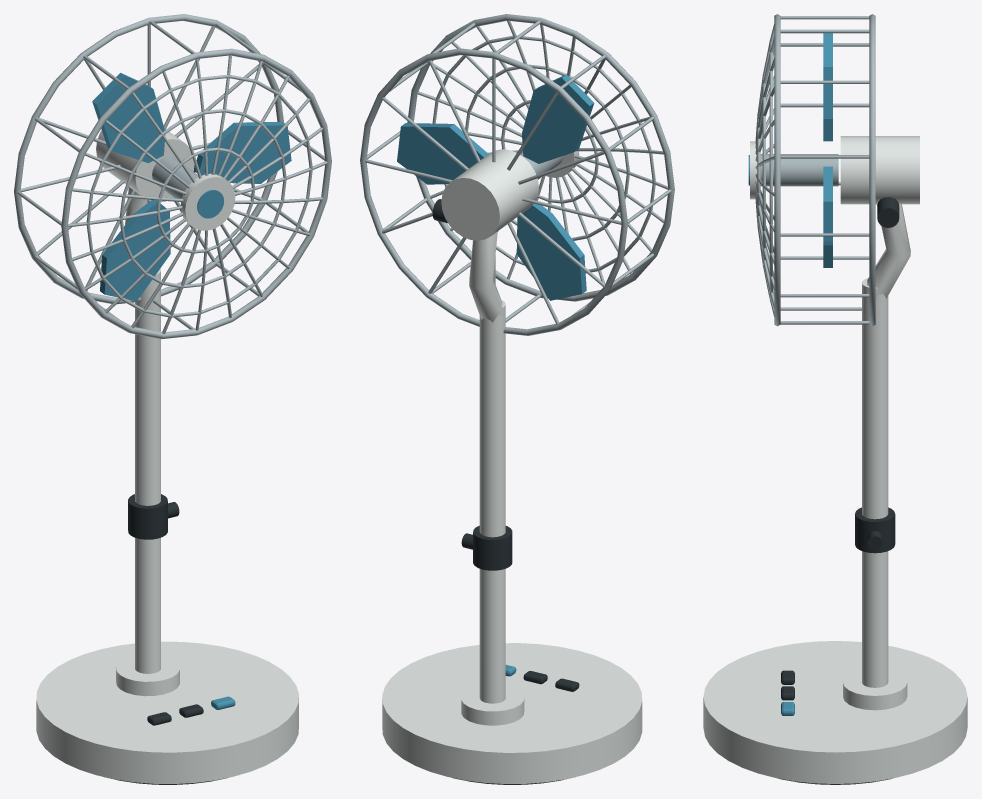
The model's file is standing_fan.glb.
3 renders of one model, left to right at view 1: azimuth 30°, elevation 25°; view 2: azimuth 150°, elevation 25°; view 3: azimuth 270°, elevation 25°, orthographic.
Parts seen in each view (by area): view 1: Wide fan base, Tall fan pedestal, Front outer guard ring, Rear outer guard ring, Fan blade 3, Fan blade 2, Fan blade 1, Concentric front guard wire.002, Rear motor housing, Concentric front guard wire.001, Stand mounting collar, Front fan centre cap (+4 smaller); view 2: Wide fan base, Tall fan pedestal, Rear outer guard ring, Rear motor housing, Front outer guard ring, Fan blade 3, Fan blade 2, Fan blade 1, Fan head support, Stand mounting collar, Concentric front guard wire.002, Height adjustment collar (+2 smaller); view 3: Wide fan base, Tall fan pedestal, Rear motor housing, Front outer guard ring, Rear outer guard ring, Stand mounting collar, Fan head support, Central fan shaft, Height adjustment collar, Fan blade 2, Concentric front guard wire.002, Fan blade 1 (+2 smaller).
Boxes of the visible parts, x1=… form: Wide fan base: x1=36, y1=641, x2=298, y2=783; Tall fan pedestal: x1=135, y1=268, x2=160, y2=673; Front outer guard ring: x1=61, y1=48, x2=331, y2=339; Rear outer guard ring: x1=14, y1=14, x2=283, y2=304; Fan blade 3: x1=100, y1=200, x2=170, y2=301; Fan blade 2: x1=92, y1=73, x2=165, y2=163; Fan blade 1: x1=194, y1=121, x2=291, y2=183; Concentric front guard wire.002: x1=86, y1=74, x2=312, y2=317; Rear motor housing: x1=96, y1=129, x2=194, y2=202; Concentric front guard wire.001: x1=119, y1=109, x2=286, y2=288; Stand mounting collar: x1=116, y1=656, x2=179, y2=696; Front fan centre cap: x1=180, y1=173, x2=235, y2=230; Wide fan base: x1=382, y1=643, x2=642, y2=783; Tall fan pedestal: x1=479, y1=300, x2=505, y2=703; Rear outer guard ring: x1=360, y1=48, x2=627, y2=335; Rear motor housing: x1=441, y1=149, x2=538, y2=240; Front outer guard ring: x1=407, y1=14, x2=674, y2=301; Fan blade 3: x1=516, y1=203, x2=586, y2=300; Fan blade 2: x1=522, y1=74, x2=594, y2=163; Fan blade 1: x1=397, y1=123, x2=488, y2=184; Fan head support: x1=469, y1=231, x2=504, y2=322; Stand mounting collar: x1=461, y1=686, x2=524, y2=725; Concentric front guard wire.002: x1=432, y1=35, x2=655, y2=273; Height adjustment collar: x1=473, y1=525, x2=512, y2=570; Wide fan base: x1=703, y1=641, x2=967, y2=783; Tall fan pedestal: x1=862, y1=278, x2=888, y2=687; Rear motor housing: x1=840, y1=136, x2=919, y2=204; Front outer guard ring: x1=774, y1=14, x2=780, y2=326; Rear outer guard ring: x1=869, y1=14, x2=875, y2=326; Stand mounting collar: x1=843, y1=670, x2=907, y2=710; Fan head support: x1=867, y1=204, x2=910, y2=298; Central fan shaft: x1=760, y1=154, x2=838, y2=186; Height adjustment collar: x1=855, y1=507, x2=895, y2=553; Fan blade 2: x1=823, y1=33, x2=832, y2=141; Concentric front guard wire.002: x1=769, y1=40, x2=772, y2=300; Fan blade 1: x1=823, y1=166, x2=832, y2=241.
Size of the model in its own units: 0.594 by 1.48 by 0.5.
